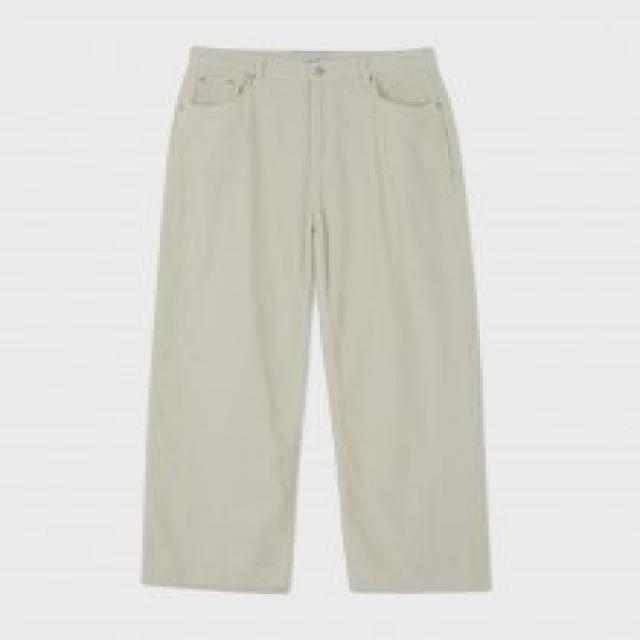long-pants: (130, 42, 497, 596)
